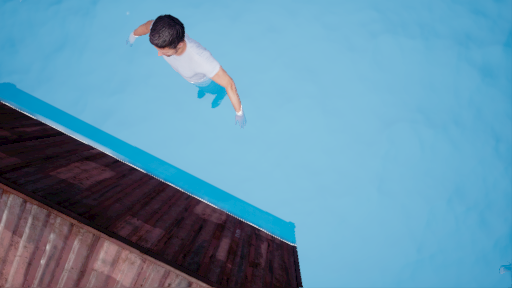person: (137, 14, 247, 130)
